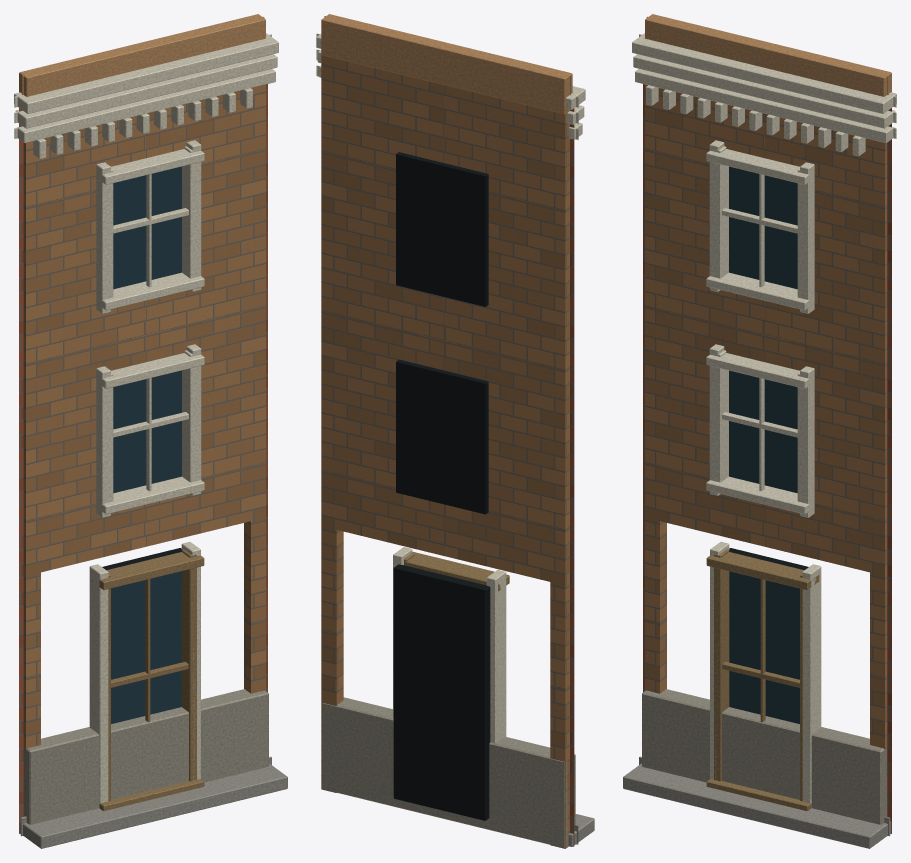
Rendered from RUNDWN17_lod1.glb.
3 views of the same model, side by side, from view 1: azimuth 30°, elevation 25°; view 2: azimuth 150°, elevation 25°; view 3: azimuth 330°, elevation 25° (orthographic).
Parts seen in each view (by area): view 1: RUNDWN17_FRONT_LOD1; view 2: RUNDWN17_FRONT_LOD1; view 3: RUNDWN17_FRONT_LOD1.
Boxes of the visible parts, <box> form: RUNDWN17_FRONT_LOD1: <box>14,14,287,848</box>; RUNDWN17_FRONT_LOD1: <box>316,14,594,848</box>; RUNDWN17_FRONT_LOD1: <box>623,14,896,848</box>.
Size of the model in its own units: 3.44 by 9.66 by 0.68.
Materials: 10 (8 with a texture image).
